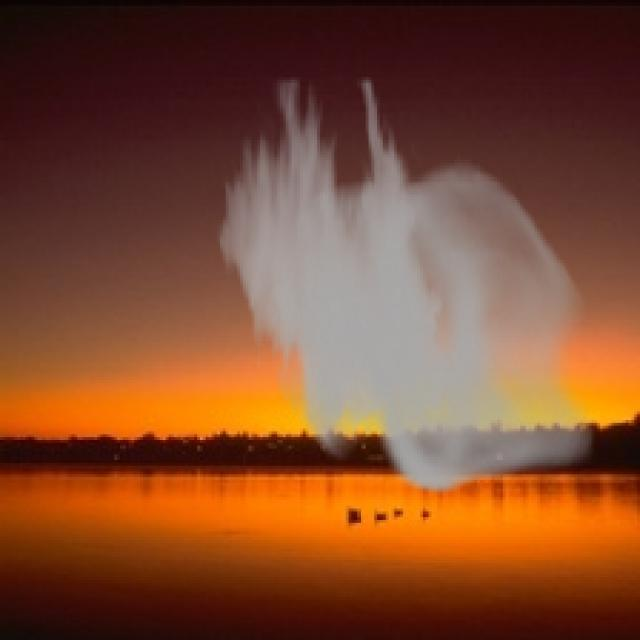Smoke: (215, 77, 594, 494)
